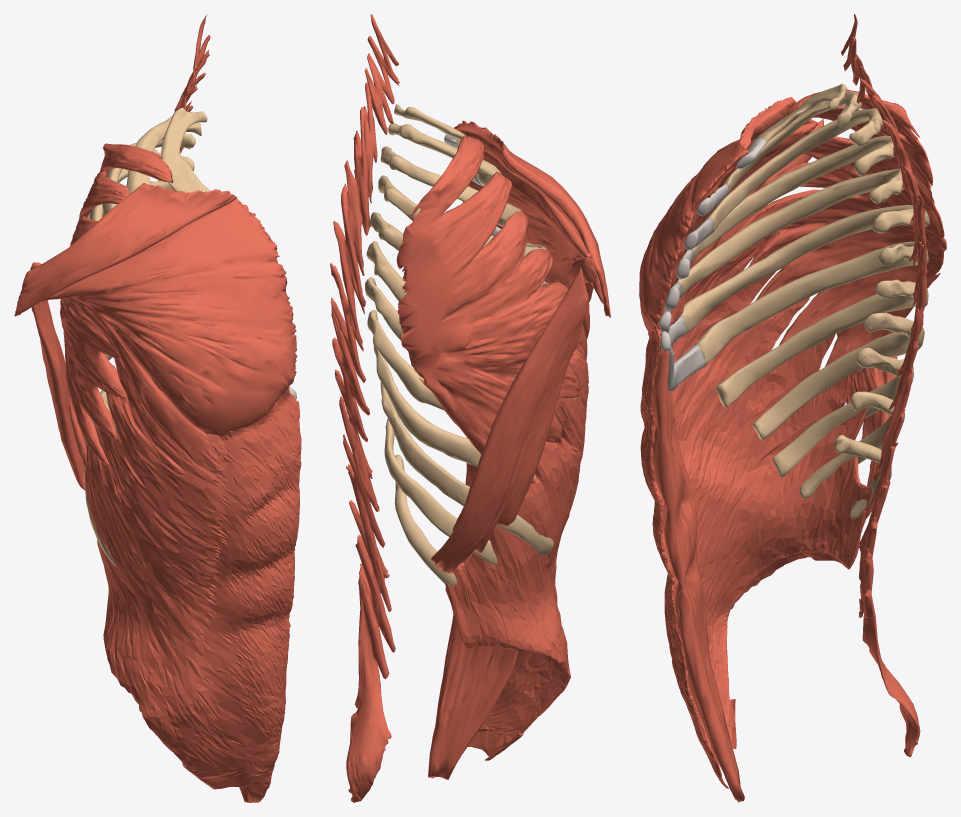
Rendered from torso.glb.
3 renders of one model, left to right at view 1: azimuth 30°, elevation 25°; view 2: azimuth 150°, elevation 25°; view 3: azimuth 270°, elevation 25°, orthographic. The views are drawn at different scales.
Parts seen in each view (by area): view 1: muscle_external_oblique, muscle_pectoralis_major, muscle_serratus_anterior, bone_ribcage, muscle_latissimus_dorsi, muscle_erector_spinae; view 2: muscle_serratus_anterior, muscle_external_oblique, muscle_erector_spinae, bone_ribcage, muscle_latissimus_dorsi, muscle_pectoralis_major, muscle_rectus_abdominis; view 3: bone_ribcage, muscle_external_oblique, muscle_serratus_anterior, muscle_rectus_abdominis, muscle_erector_spinae, muscle_pectoralis_major, muscle_latissimus_dorsi.
Part boxes in pixels (left/top/right/bottom): muscle_external_oblique: left=84, top=358, right=301, bottom=793; muscle_pectoralis_major: left=14, top=183, right=297, bottom=469; muscle_serratus_anterior: left=60, top=143, right=173, bottom=470; bone_ribcage: left=84, top=107, right=296, bottom=566; muscle_latissimus_dorsi: left=31, top=300, right=85, bottom=490; muscle_erector_spinae: left=158, top=14, right=210, bottom=180; muscle_serratus_anterior: left=396, top=135, right=580, bottom=483; muscle_external_oblique: left=445, top=326, right=588, bottom=760; muscle_erector_spinae: left=330, top=14, right=399, bottom=802; bone_ribcage: left=365, top=104, right=579, bottom=586; muscle_latissimus_dorsi: left=431, top=268, right=588, bottom=573; muscle_pectoralis_major: left=454, top=120, right=610, bottom=339; muscle_rectus_abdominis: left=428, top=437, right=518, bottom=779; bone_ribcage: left=659, top=83, right=929, bottom=518; muscle_external_oblique: left=640, top=232, right=872, bottom=788; muscle_serratus_anterior: left=730, top=89, right=946, bottom=366; muscle_rectus_abdominis: left=652, top=328, right=744, bottom=802; muscle_erector_spinae: left=841, top=14, right=927, bottom=756; muscle_pectoralis_major: left=639, top=97, right=823, bottom=347; muscle_latissimus_dorsi: left=837, top=332, right=897, bottom=486.
Bounding box in the file's own units: 0.1996 × 0.6705 × 0.2368.
